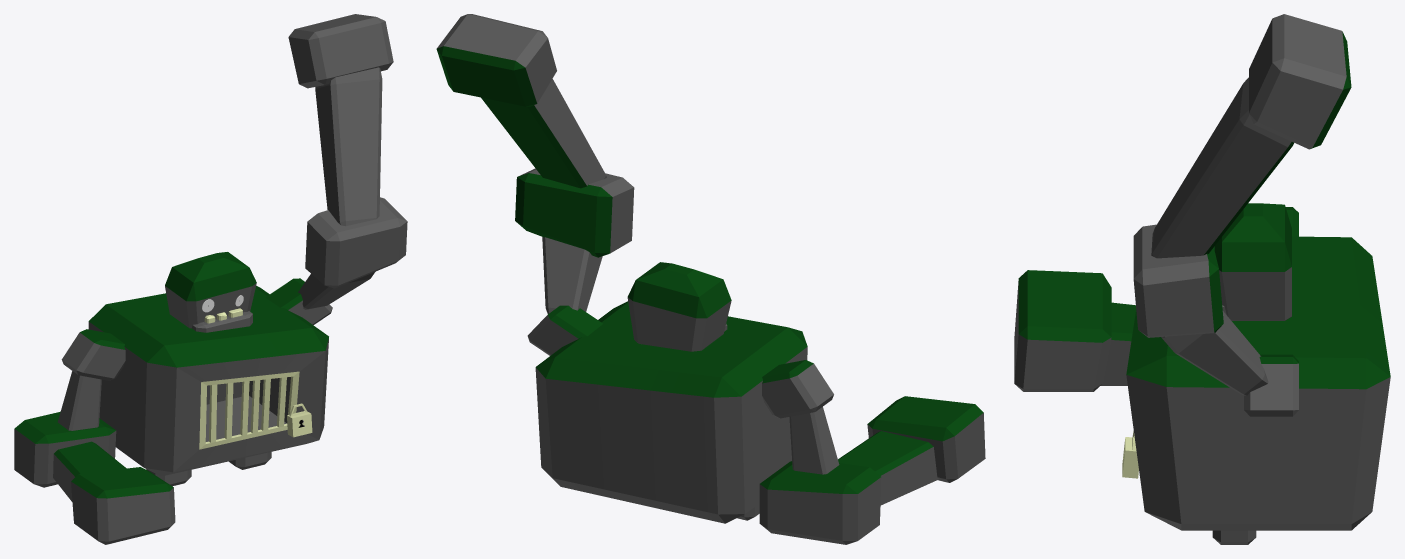
Rendered from RightFullGoofy.fbx.
3 renders of one model, left to right at view 1: azimuth 30°, elevation 25°; view 2: azimuth 150°, elevation 25°; view 3: azimuth 270°, elevation 25°, orthographic. The views are drawn at different scales.
Parts seen in each view (by area): view 1: Sphere.045, Sphere.052, Sphere.046, Sphere.053, Sphere.051, Sphere.048, Sphere.050, Sphere.047, Sphere.049, Sphere.055, Sphere.054; view 2: Sphere.045, Sphere.048, Sphere.051, Sphere.053, Sphere.052, Sphere.046, Sphere.047, Sphere.054, Sphere.050, Sphere.049, Sphere.055; view 3: Sphere.045, Sphere.046, Sphere.052, Sphere.051, Sphere.053, Sphere.054, Sphere.055, Sphere.047.
Boxes of the visible parts, <box> form: Sphere.045: <box>88,252,328,486</box>; Sphere.052: <box>315,67,382,226</box>; Sphere.046: <box>71,467,175,544</box>; Sphere.053: <box>305,197,407,288</box>; Sphere.051: <box>288,14,393,88</box>; Sphere.048: <box>14,411,116,487</box>; Sphere.050: <box>61,329,125,380</box>; Sphere.047: <box>53,441,126,501</box>; Sphere.049: <box>57,371,101,430</box>; Sphere.055: <box>265,278,332,324</box>; Sphere.054: <box>298,271,375,309</box>; Sphere.045: <box>535,262,807,523</box>; Sphere.048: <box>759,461,881,544</box>; Sphere.051: <box>436,14,556,106</box>; Sphere.053: <box>515,168,634,257</box>; Sphere.052: <box>481,79,606,188</box>; Sphere.046: <box>867,396,985,482</box>; Sphere.047: <box>838,431,938,505</box>; Sphere.054: <box>542,237,602,313</box>; Sphere.050: <box>762,360,833,418</box>; Sphere.049: <box>789,407,839,474</box>; Sphere.055: <box>527,305,602,355</box>; Sphere.045: <box>1122,203,1390,544</box>; Sphere.046: <box>1014,270,1111,391</box>; Sphere.052: <box>1151,77,1293,258</box>; Sphere.051: <box>1249,14,1351,149</box>; Sphere.053: <box>1133,224,1223,337</box>; Sphere.054: <box>1161,311,1268,395</box>; Sphere.055: <box>1244,354,1298,416</box>; Sphere.047: <box>1101,302,1136,385</box>.
Size of the model in its own units: 2889 by 2932 by 1720.
